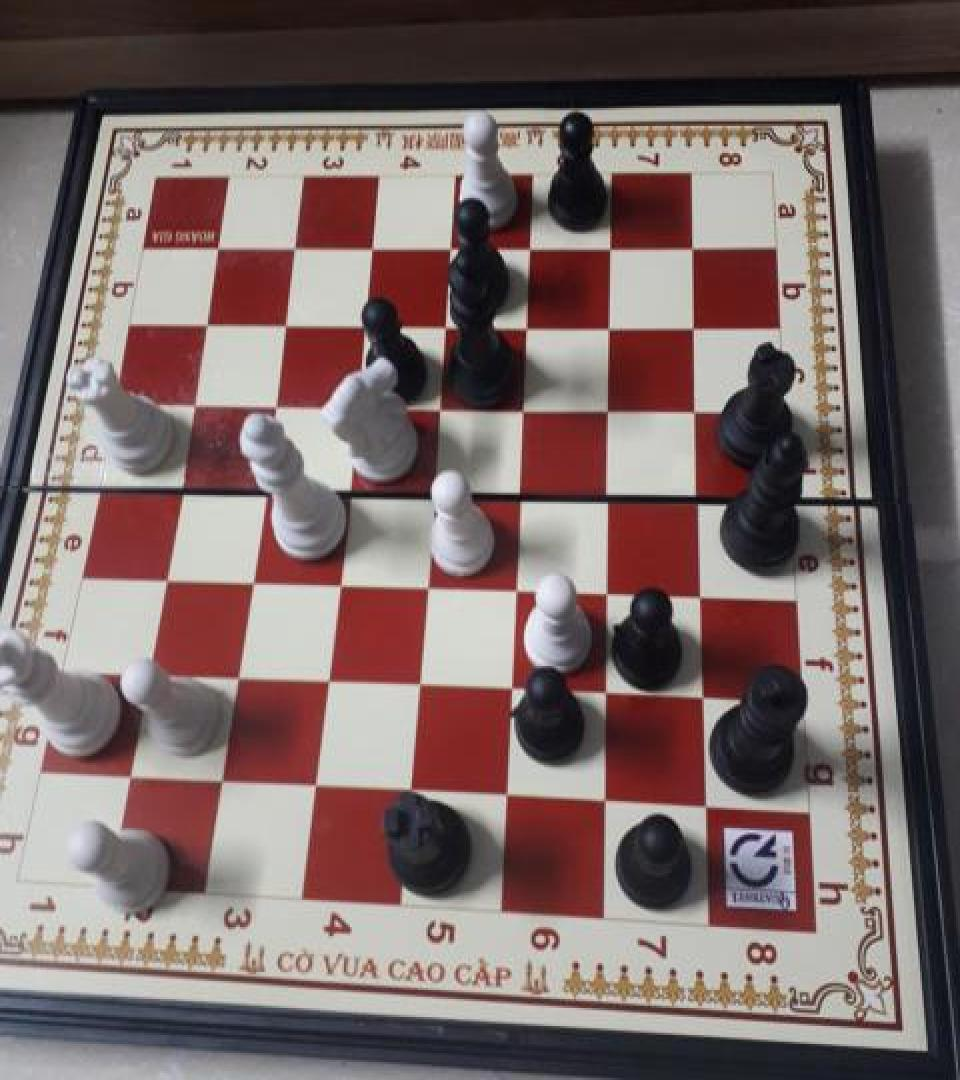xcorner: (670, 226, 704, 264), (588, 226, 622, 264), (508, 226, 542, 264), (429, 226, 463, 264), (351, 228, 385, 266), (274, 228, 308, 266), (199, 228, 233, 266), (672, 305, 706, 343), (588, 304, 622, 342), (505, 304, 539, 342), (423, 303, 457, 341), (343, 303, 377, 341), (264, 303, 298, 341), (186, 302, 220, 340), (674, 388, 708, 426), (587, 387, 621, 425), (502, 386, 536, 424), (417, 385, 451, 423), (335, 384, 369, 422), (253, 382, 287, 420), (173, 382, 207, 420), (677, 477, 711, 515), (586, 476, 620, 514), (498, 474, 532, 512), (411, 472, 445, 510), (326, 469, 360, 507), (242, 468, 276, 506), (159, 466, 193, 504), (679, 573, 713, 611), (586, 570, 620, 608), (494, 567, 528, 605), (404, 564, 438, 602), (316, 562, 350, 600), (230, 558, 264, 596), (145, 556, 179, 594), (681, 675, 715, 713), (585, 672, 619, 710), (490, 667, 524, 705), (397, 664, 431, 702), (306, 660, 340, 698), (217, 656, 251, 694), (129, 652, 163, 690), (684, 786, 718, 824), (584, 781, 618, 819), (486, 775, 520, 813), (389, 770, 423, 808), (295, 765, 329, 803), (203, 760, 237, 798), (112, 755, 146, 793)
